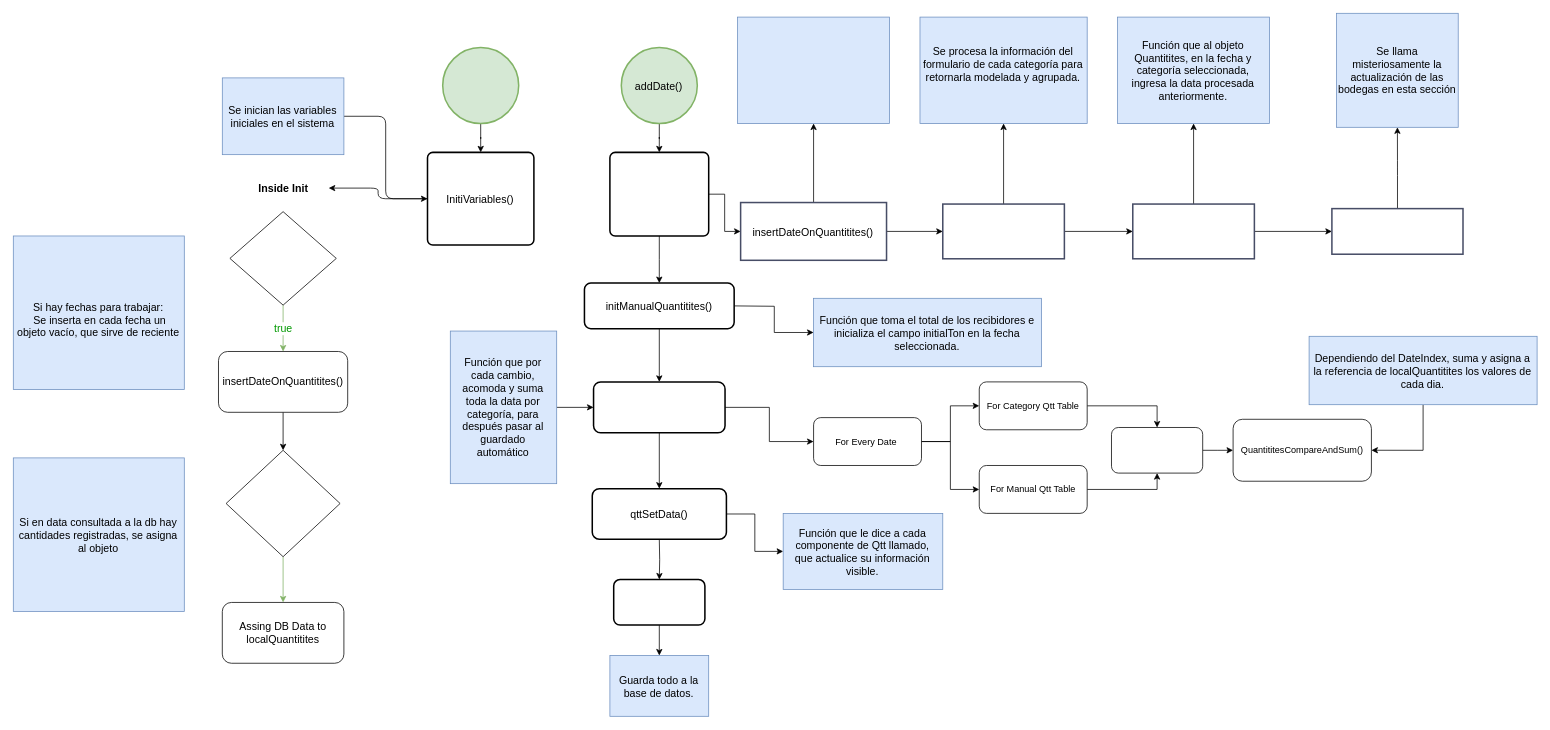
Some shapes in this 1550 by 730 pixel diagram are drawn without their labels. Here are the shapes that lost their labels. From the top down, the centre of each, then its label:
At (x=480, y=85): "Page loaded".
At (x=813, y=70): "Inserta un objeto vacío en la fecha añadida a Quantitites".
At (x=659, y=193): "Set Initial Quantities".
At (x=1003, y=231): "get Quantities per category".
At (x=1193, y=231): "add computed Quantities to object".
At (x=1397, y=231): "updateHolds()".
At (x=282, y=258): "WorkingDates >= 1".
At (x=658, y=407): "QuantitiesProcess()".
At (x=1157, y=450): "Depending on dateIndex".
At (x=282, y=503): "If db Quantitites != undefined".
At (x=659, y=601): "autoSave()".
